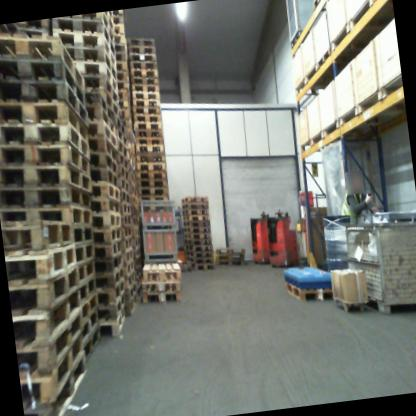pallet: (16, 332, 90, 412), (0, 26, 82, 93), (0, 48, 85, 112), (14, 313, 91, 381), (0, 70, 86, 128), (10, 287, 87, 351), (0, 92, 87, 148), (18, 352, 94, 416), (0, 112, 91, 164), (0, 138, 92, 189), (0, 153, 94, 201), (0, 175, 94, 220), (0, 198, 95, 240), (11, 270, 84, 321), (8, 243, 79, 291), (60, 27, 117, 86), (52, 11, 116, 60), (1, 215, 71, 257), (60, 13, 115, 58), (285, 275, 338, 309), (79, 58, 116, 95), (85, 96, 117, 138), (81, 86, 120, 119), (139, 255, 183, 283), (84, 134, 118, 169), (80, 326, 108, 365), (82, 75, 117, 105), (87, 119, 118, 152), (329, 293, 369, 317), (140, 272, 181, 295), (84, 13, 113, 44), (81, 309, 107, 342), (97, 280, 130, 306), (141, 286, 183, 306), (77, 292, 104, 321), (94, 263, 126, 287), (70, 237, 97, 265), (91, 152, 119, 178), (91, 240, 124, 262), (101, 296, 129, 321), (91, 164, 120, 188), (77, 273, 100, 303), (91, 183, 122, 205), (94, 253, 124, 275), (69, 220, 95, 245), (75, 257, 97, 285), (131, 76, 162, 95), (104, 313, 127, 337), (93, 227, 122, 245), (93, 214, 122, 231), (184, 259, 216, 274), (136, 149, 166, 165), (129, 102, 159, 118), (93, 196, 118, 215), (136, 167, 167, 182), (137, 175, 167, 190), (135, 140, 165, 155), (135, 133, 165, 148), (184, 250, 213, 265), (134, 118, 163, 133), (133, 111, 162, 126), (178, 192, 209, 206), (132, 87, 159, 103), (213, 256, 246, 269), (138, 185, 168, 199), (132, 98, 160, 113), (182, 228, 211, 242), (135, 127, 164, 141), (181, 216, 211, 229), (213, 244, 245, 256), (180, 223, 212, 235), (183, 235, 212, 248), (181, 204, 209, 217), (185, 248, 215, 260), (136, 160, 166, 172), (287, 28, 304, 49), (138, 192, 167, 204), (120, 294, 139, 312), (184, 242, 211, 254), (120, 247, 134, 270), (214, 251, 243, 262), (115, 127, 128, 150), (131, 75, 158, 86), (181, 212, 210, 222), (123, 284, 139, 302), (120, 260, 136, 278), (117, 153, 130, 174), (116, 140, 128, 162), (180, 200, 209, 209), (117, 166, 129, 186), (115, 186, 129, 203), (130, 70, 156, 79), (127, 182, 139, 201), (125, 273, 137, 291), (118, 175, 130, 193), (117, 203, 132, 217), (120, 237, 133, 252), (118, 216, 133, 229), (130, 195, 142, 210), (115, 118, 125, 135), (312, 0, 328, 10), (129, 216, 141, 228), (134, 245, 144, 259), (130, 227, 142, 238), (121, 226, 131, 237), (131, 237, 142, 246)
pallet_truck: (261, 203, 303, 274), (239, 200, 273, 268)
stillage: (339, 213, 416, 322), (135, 194, 184, 264)
